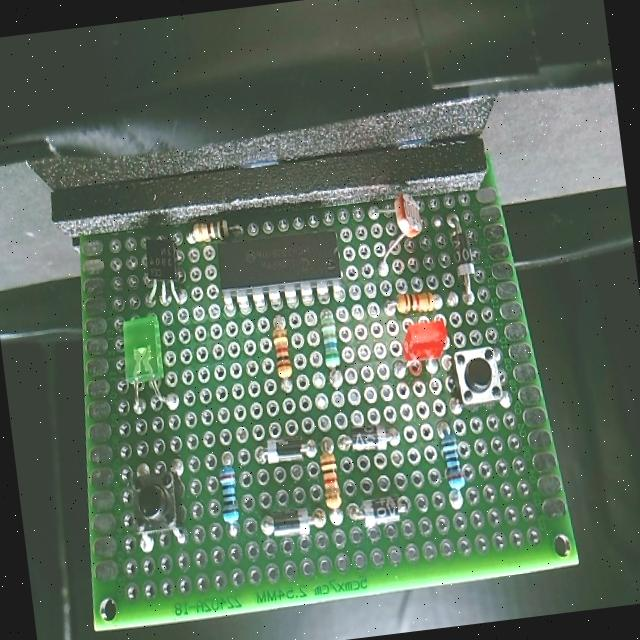IC: (212, 224, 344, 295)
cds: (390, 184, 425, 248)
diode: (350, 487, 410, 535), (349, 418, 400, 460), (262, 508, 317, 543), (452, 227, 481, 282), (261, 434, 308, 467)
led: (114, 309, 169, 389), (392, 312, 450, 373)
resistor: (208, 452, 256, 524), (314, 448, 348, 516), (388, 283, 445, 318), (438, 432, 468, 498), (268, 322, 298, 385), (185, 208, 232, 248), (316, 312, 346, 373)
switch: (124, 464, 188, 544), (448, 338, 512, 411)
transistor: (138, 236, 190, 294)
